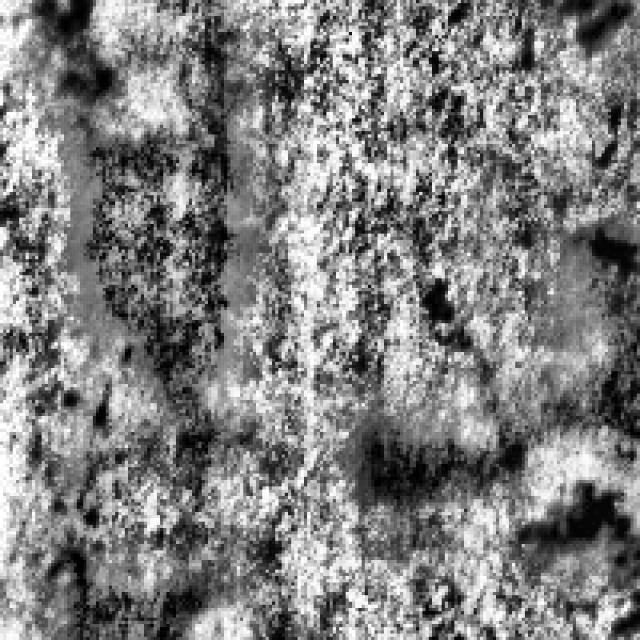Patches: (509, 476, 637, 586), (544, 0, 624, 64)
Scratches: (64, 70, 237, 464), (333, 275, 528, 493), (522, 204, 636, 473), (48, 518, 224, 637)
